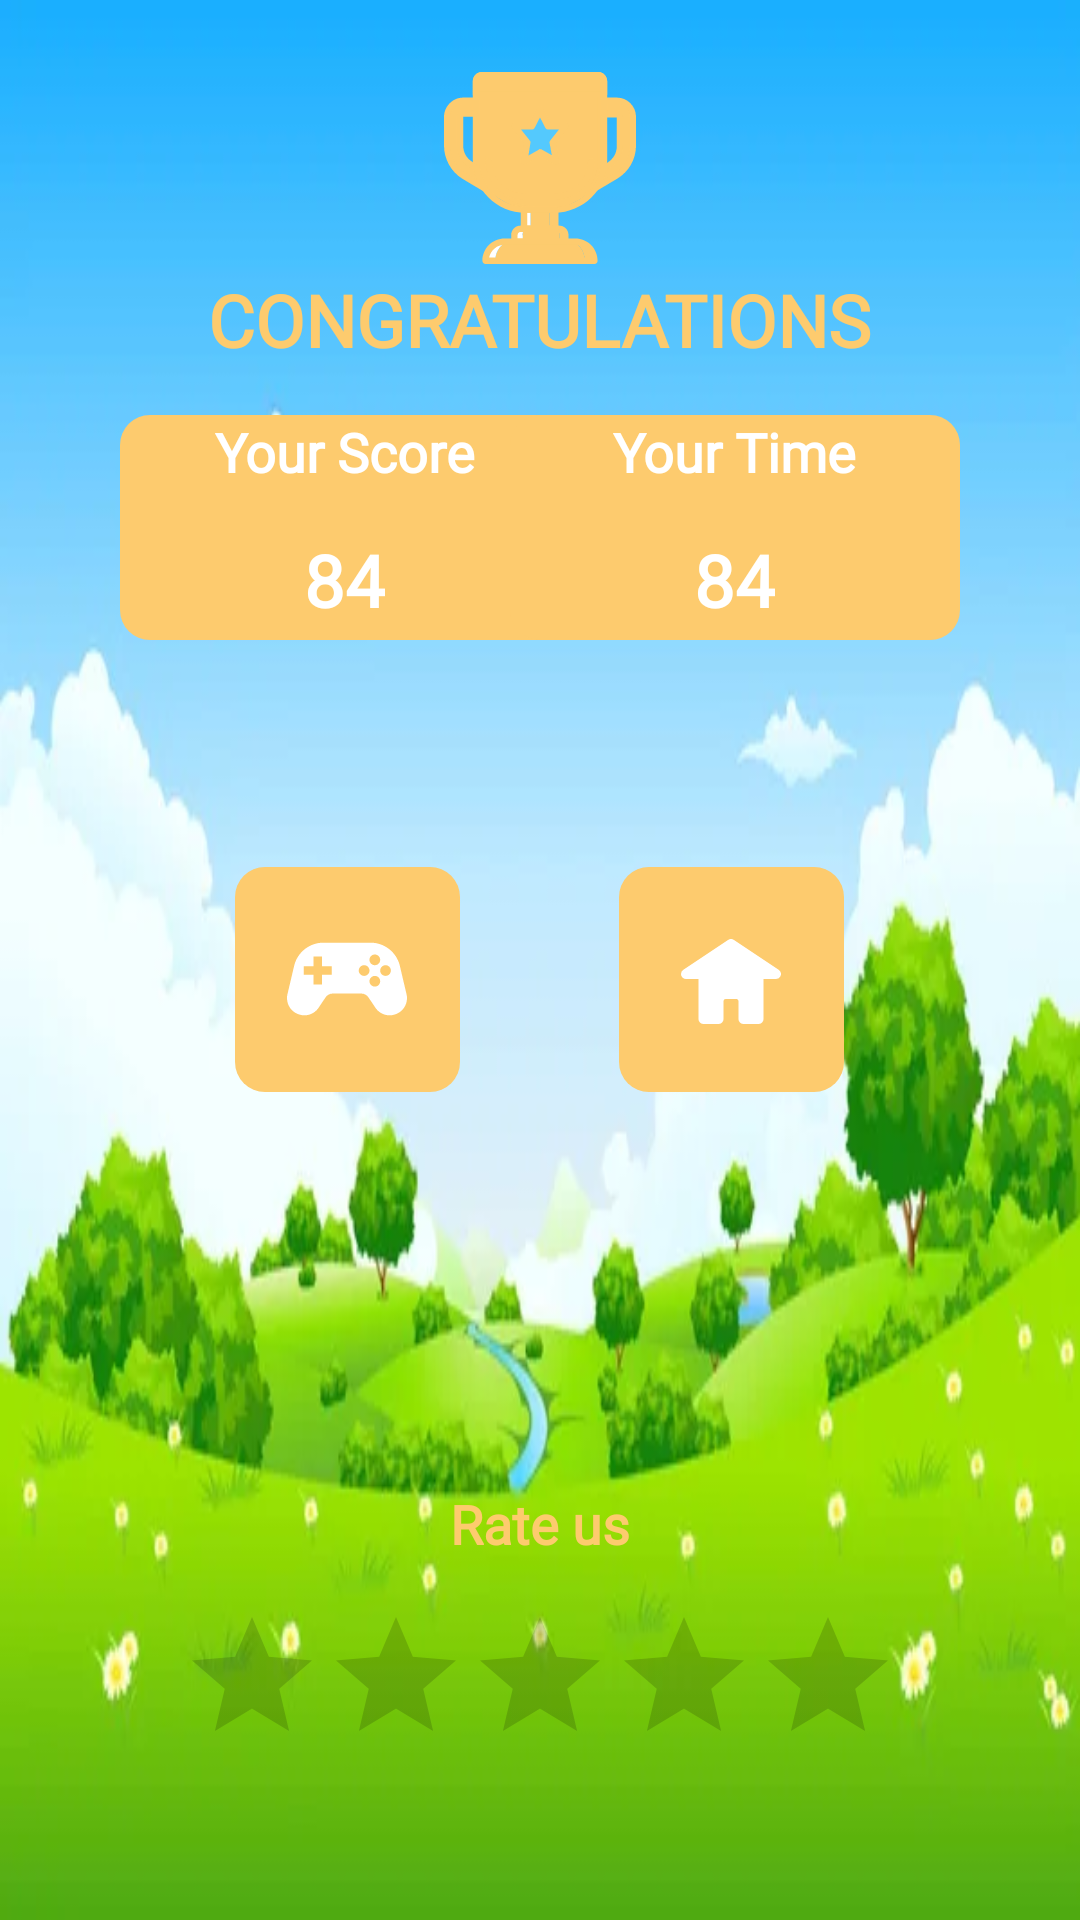

Point at icon controls on the screen. Image size 1080×1920, points as point (x, y).
cup: point (540, 168)
home: point (731, 981)
